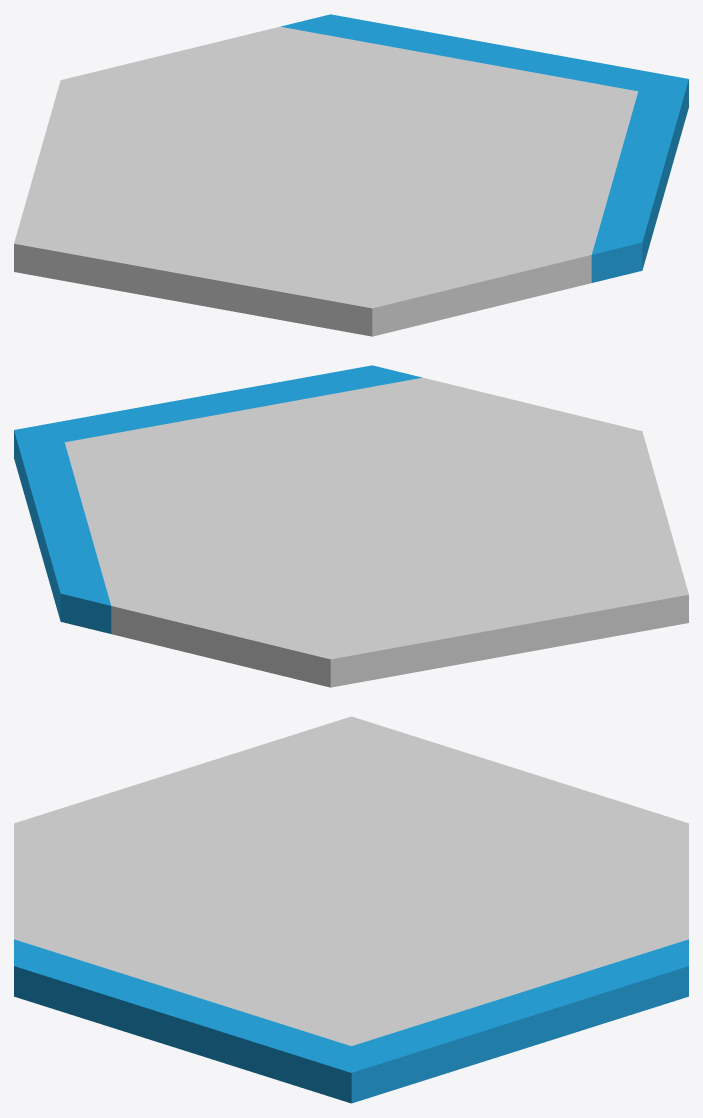
3 renders of one model, top to bottom at view 1: azimuth 30°, elevation 25°; view 2: azimuth 150°, elevation 25°; view 3: azimuth 270°, elevation 25°, orthographic. The views are drawn at different scales.
Parts seen in each view (by area): view 1: Hexagon, SE, NE; view 2: Hexagon, NE, SE; view 3: Hexagon, SE, NE.
Part boxes in pixels (<box>): Hexagon: <box>14,26,638,336</box>; SE: <box>591,79,688,282</box>; NE: <box>281,14,687,91</box>; Hexagon: <box>64,377,688,687</box>; NE: <box>14,430,111,633</box>; SE: <box>15,365,421,442</box>; Hexagon: <box>14,716,688,1045</box>; SE: <box>14,939,351,1103</box>; NE: <box>351,939,688,1103</box>.
Bounding box in the file's own units: 5 × 4 × 0.2.
